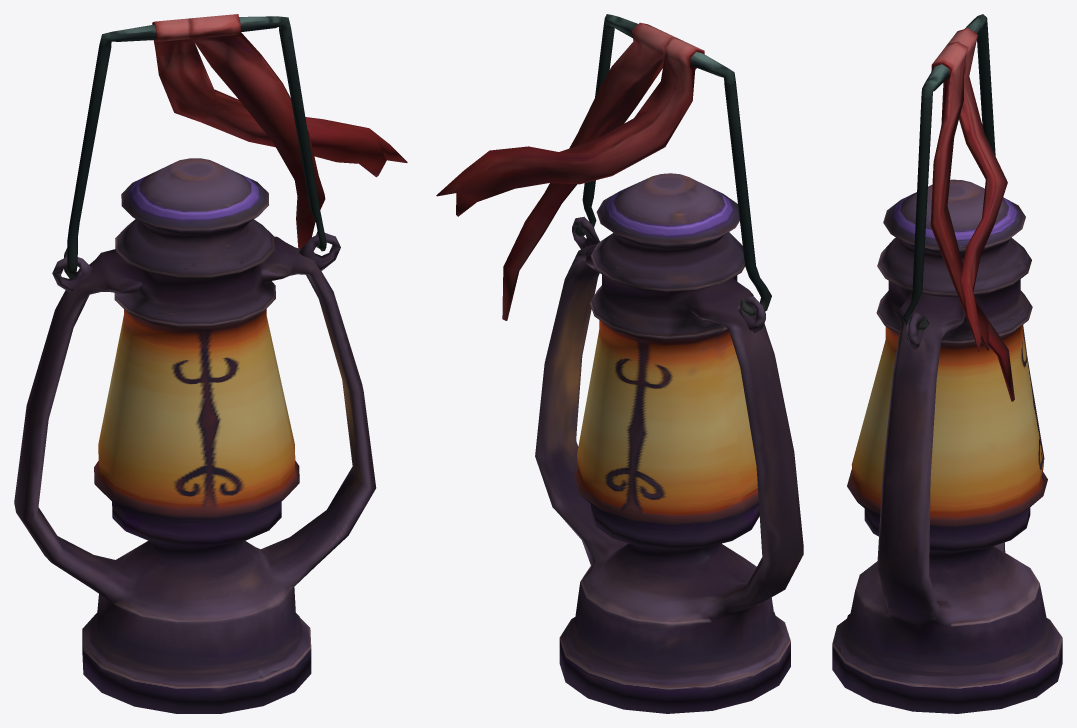
File: Lamp_FBX.FBX
The picture shows the model from 3 angles, left to right: view 1: azimuth 30°, elevation 25°; view 2: azimuth 150°, elevation 25°; view 3: azimuth 270°, elevation 25°; orthographic projection. The views are drawn at different scales.
Visible parts, largest first — view 1: lamp; view 2: lamp; view 3: lamp.
Part boxes in pixels (box(x1,y1,x2,y2)): lamp: box(14, 14, 407, 713); lamp: box(436, 14, 803, 713); lamp: box(832, 14, 1062, 713).
Bounding box in the file's own units: 41.69 × 22.62 × 67.5.
1 material, 1 textured.
